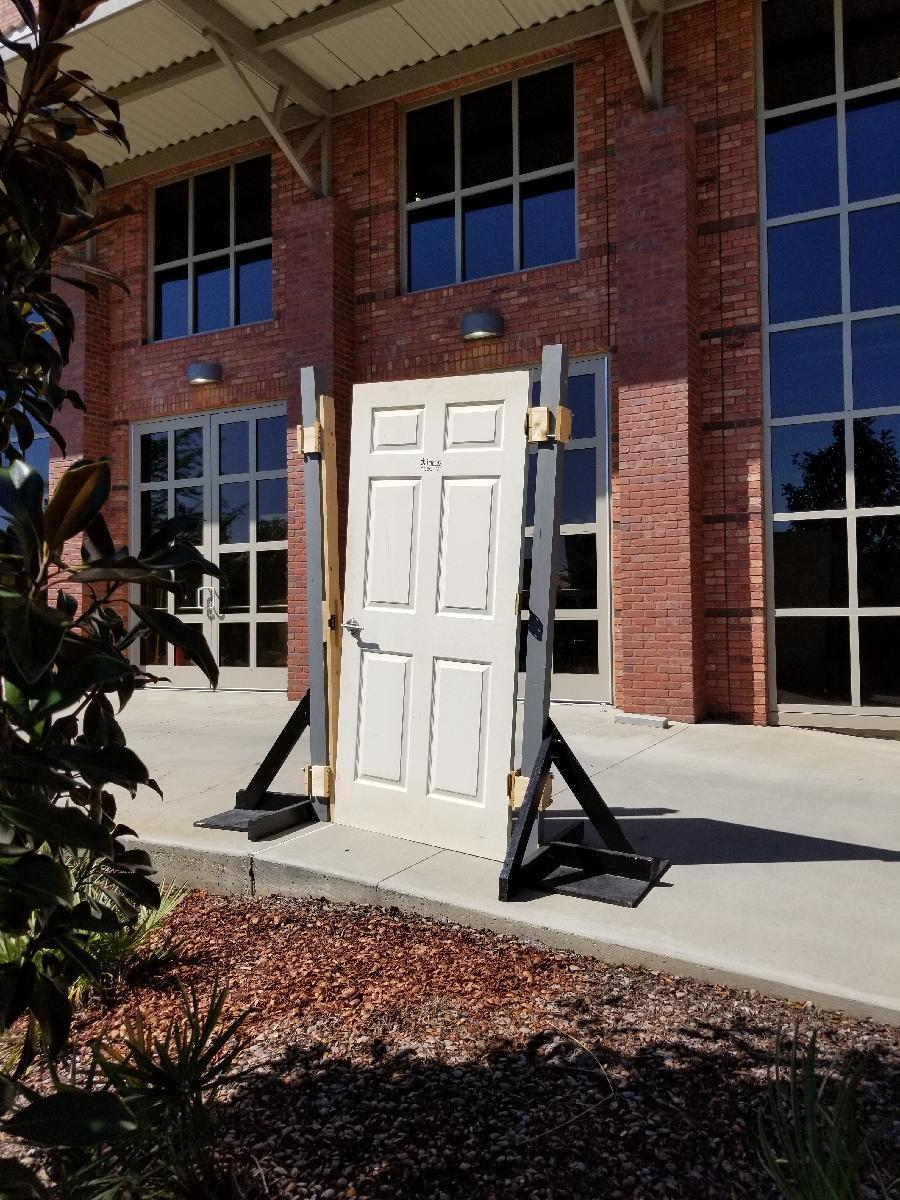door: (354, 375, 516, 858)
handle: (342, 618, 368, 636)
